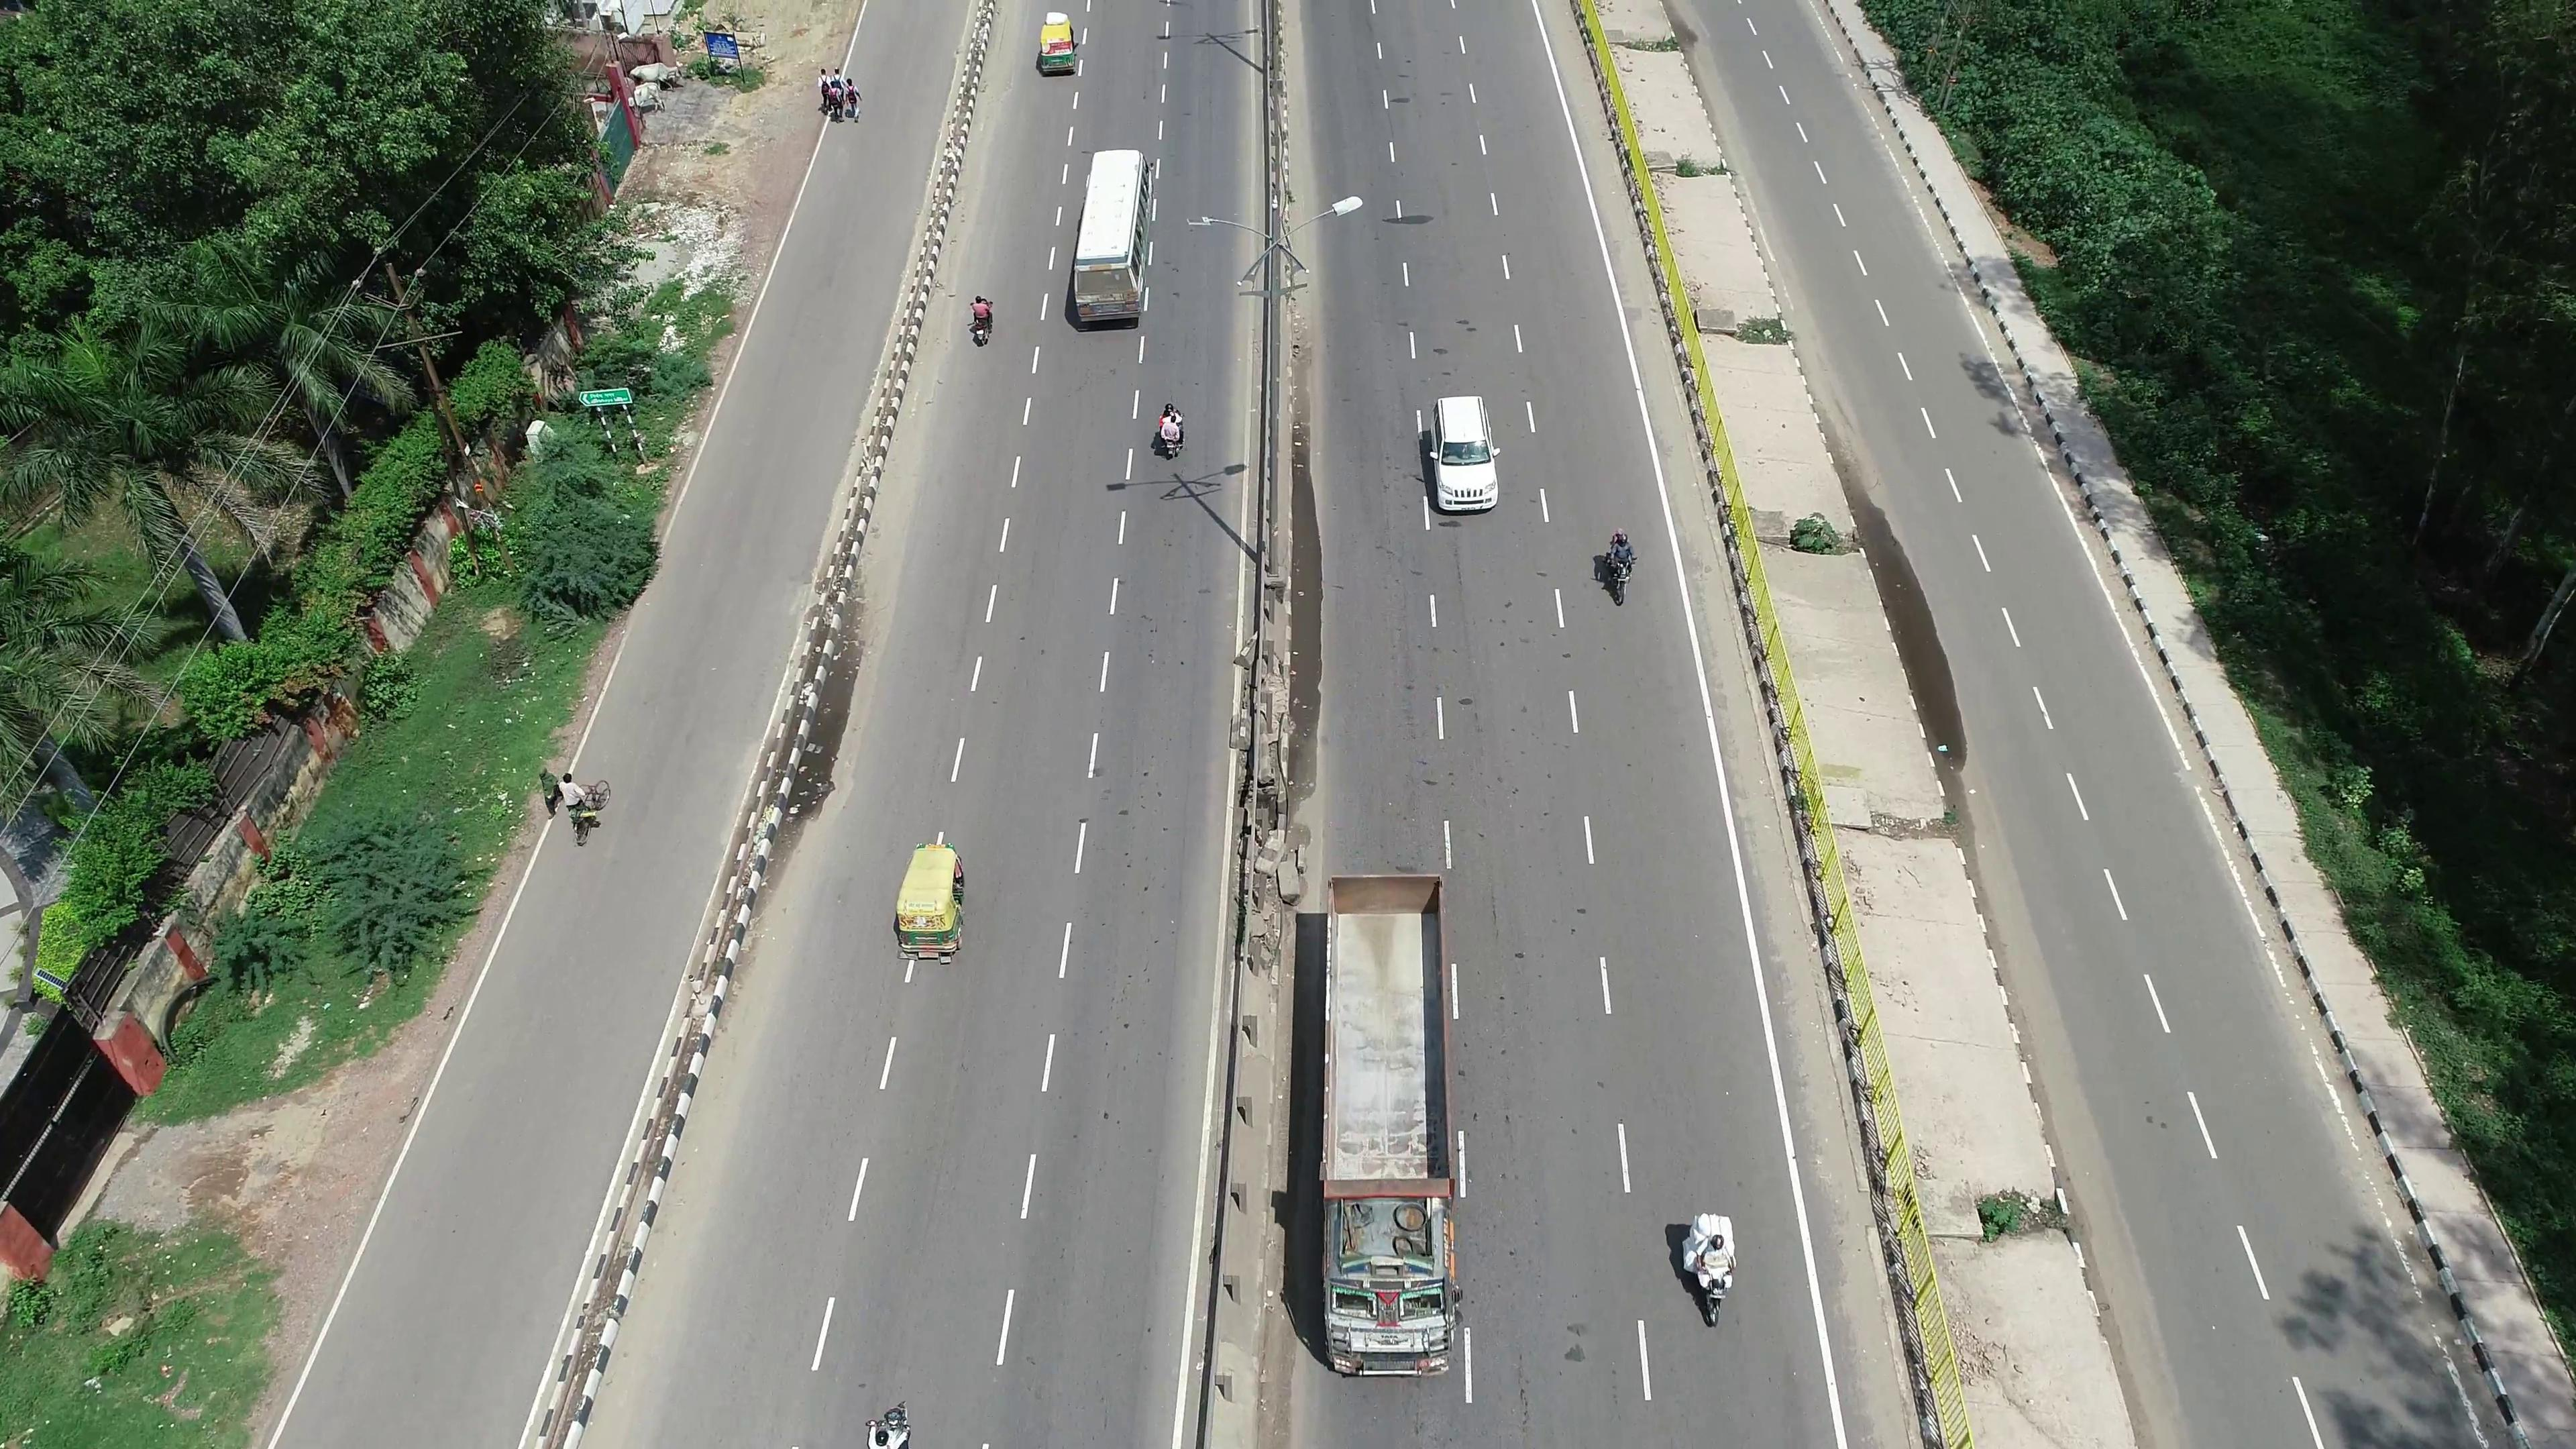Waterlogging: (1882, 533, 1976, 759), (1293, 462, 1329, 690)
